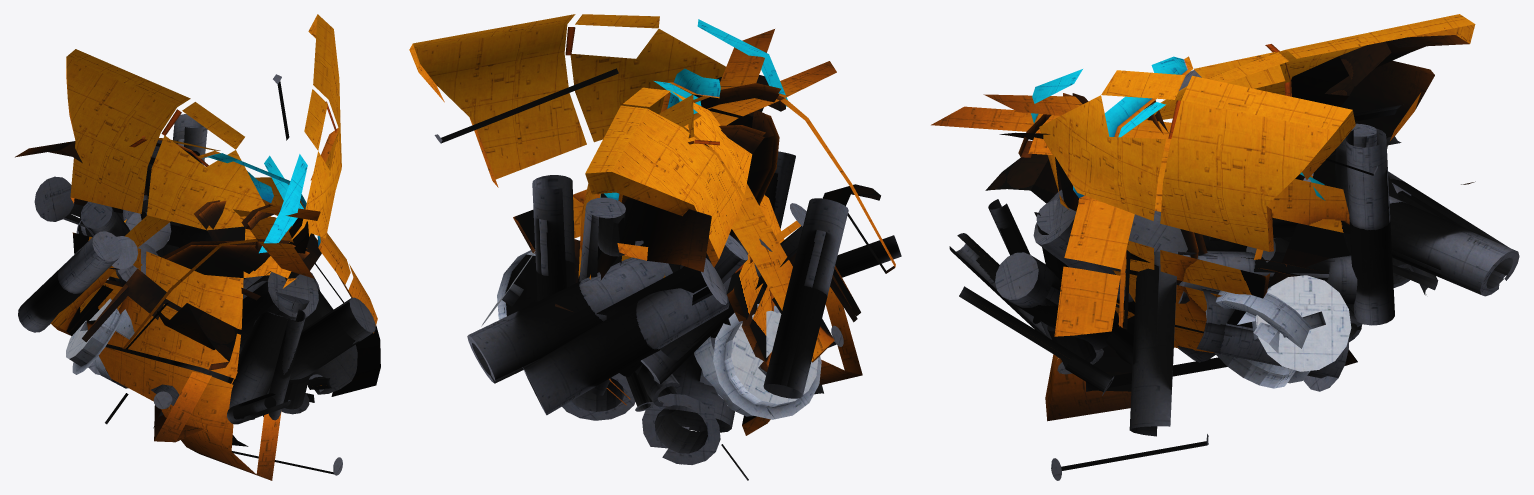
File: MonsterA_die7.obj
The picture shows the model from 3 angles, left to right: view 1: azimuth 30°, elevation 25°; view 2: azimuth 150°, elevation 25°; view 3: azimuth 270°, elevation 25°; orthographic projection. The views are drawn at different scales.
Visible parts, largest first — view 1: Box001; view 2: Box001; view 3: Box001.
Boxes of the visible parts, x1,y1,x2,y2 form: Box001: (15, 14, 380, 480); Box001: (409, 14, 901, 480); Box001: (931, 14, 1519, 480).
Bounding box in the file's own units: 201 × 212 × 261.
Materials: 1 (1 with a texture image).
